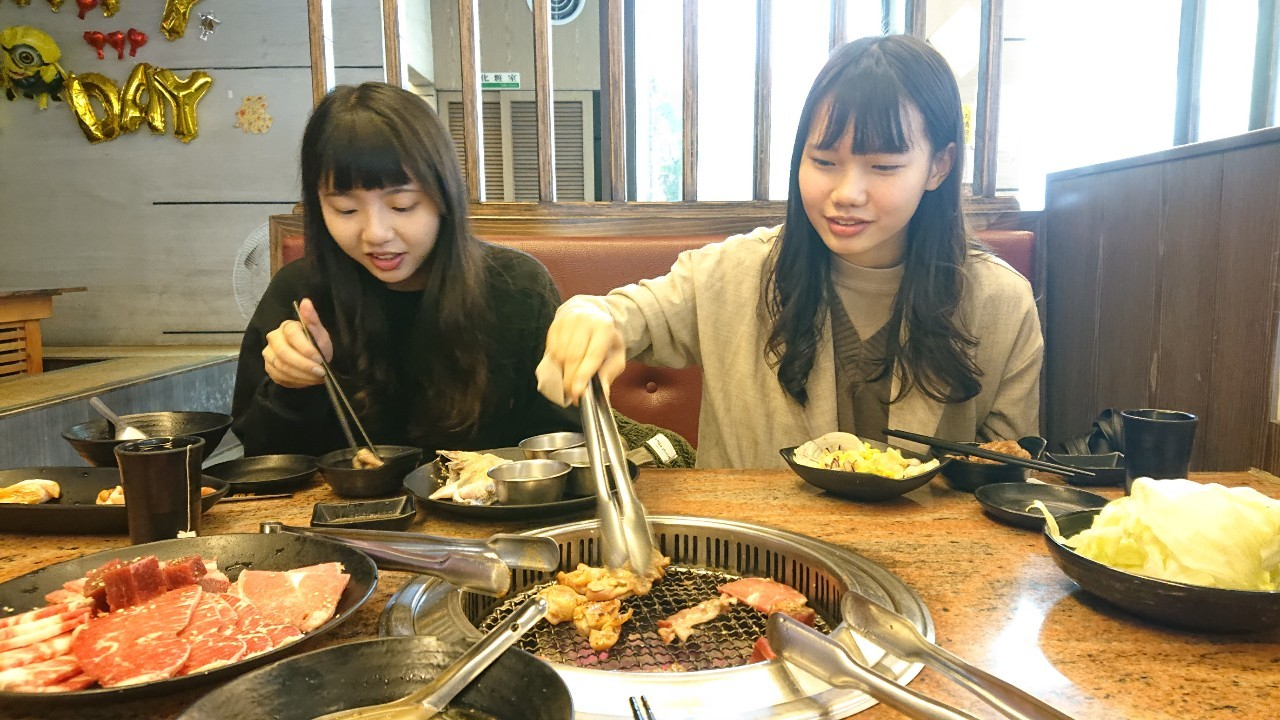people: (700, 40, 1051, 458), (253, 84, 575, 442)
